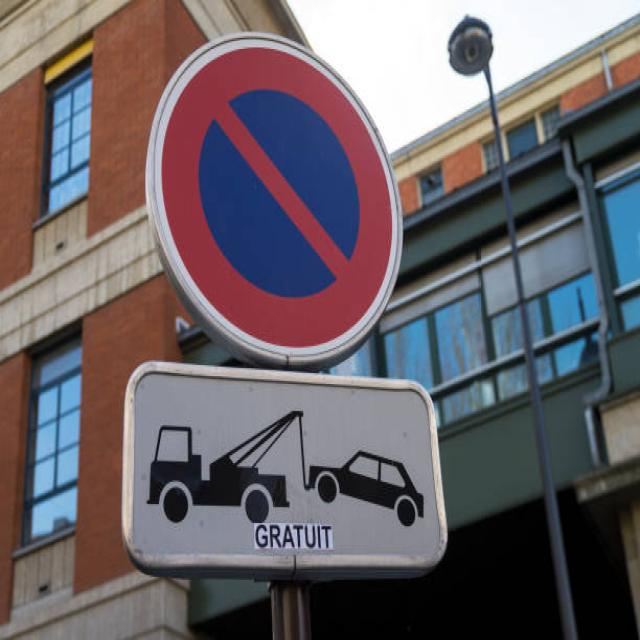forb_stopping: (144, 31, 403, 369)
